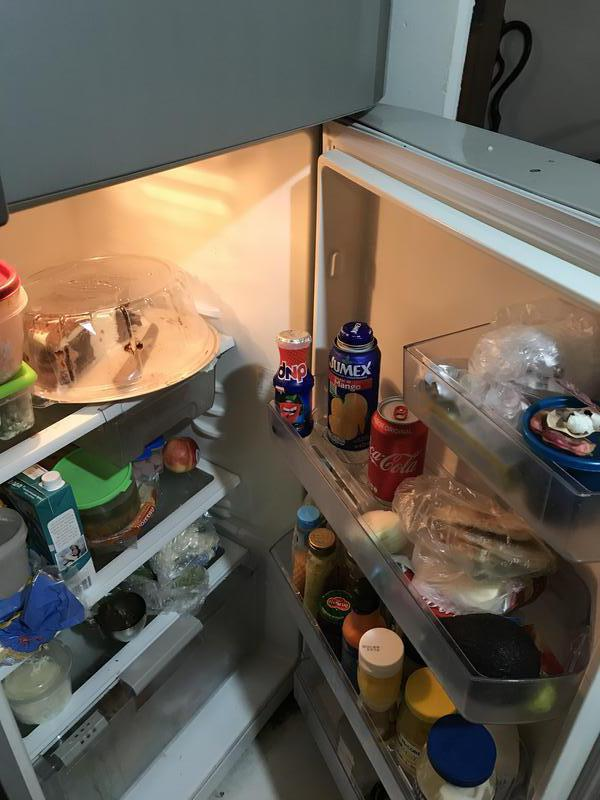coca_cola: (369, 394, 429, 500)
danup: (275, 329, 312, 440)
jugo_jumex: (326, 323, 379, 449)
